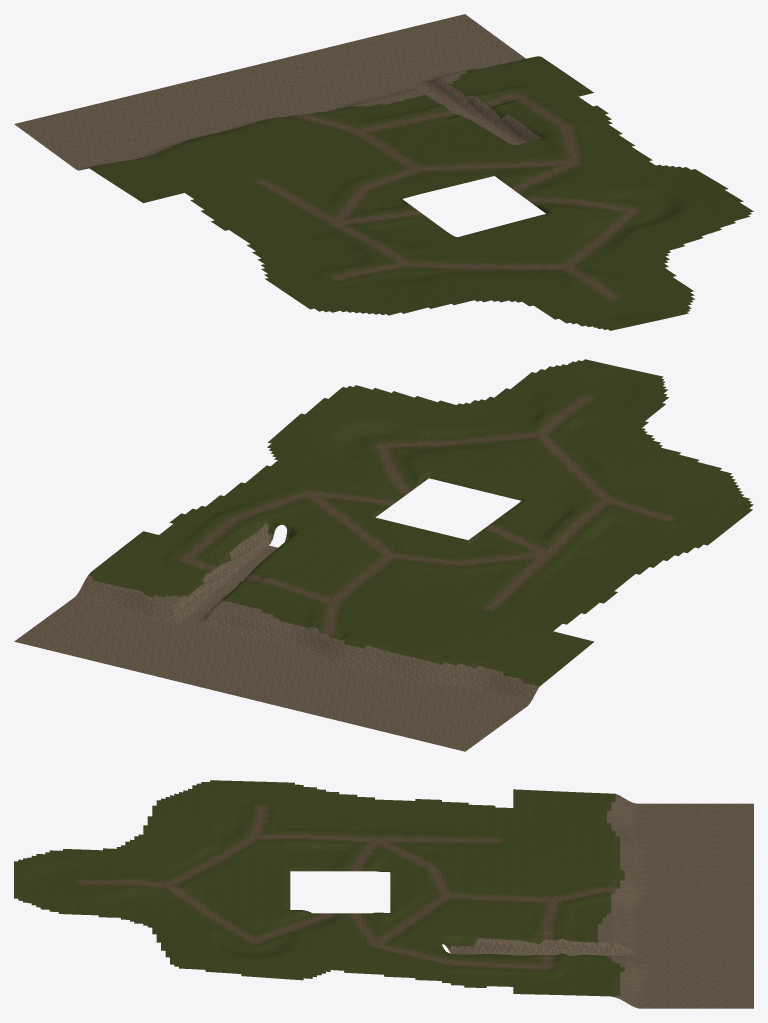
The model's file is level_camp_ground_green.glb.
3 views of the same model, one above another, from view 1: azimuth 30°, elevation 25°; view 2: azimuth 150°, elevation 25°; view 3: azimuth 270°, elevation 25° (orthographic). The views are drawn at different scales.
Visible parts, largest first — view 1: level_camp_ground_green; view 2: level_camp_ground_green; view 3: level_camp_ground_green.
Part boxes in pixels (x1,y1,x2,y2): level_camp_ground_green: [14, 14, 753, 330]; level_camp_ground_green: [14, 359, 753, 751]; level_camp_ground_green: [14, 780, 753, 1008].
Bounding box in the file's own units: 68 × 5.11 × 104.
Materials: 6 (6 with a texture image).
